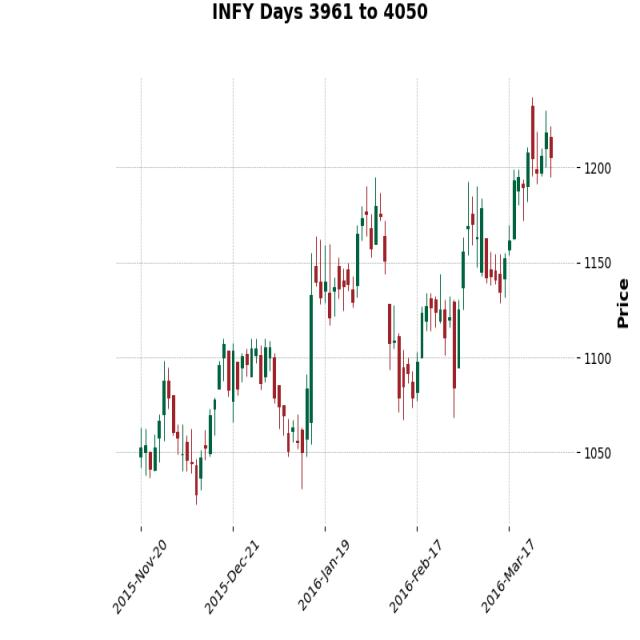Ascending Triangle: (277, 172, 381, 475)
